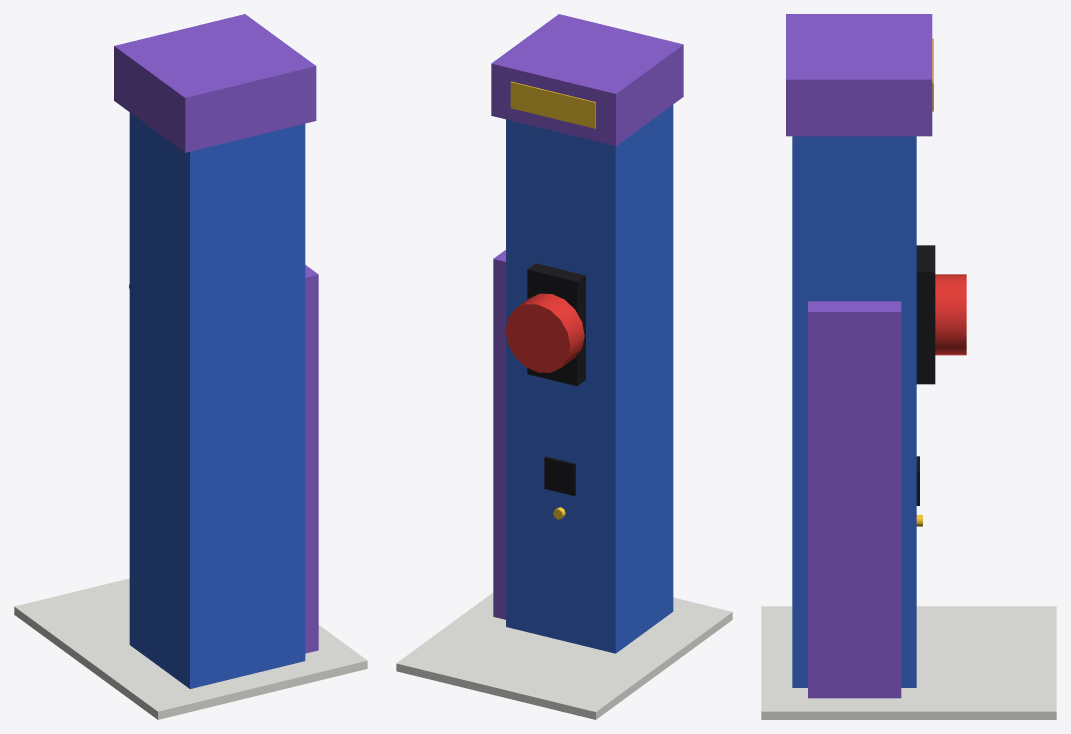
The model's file is Punching_Machine.obj.
3 renders of one model, left to right at view 1: azimuth 30°, elevation 25°; view 2: azimuth 150°, elevation 25°; view 3: azimuth 270°, elevation 25°, orthographic. The views are drawn at different scales.
Visible parts, largest first — view 1: Punching_Machine; view 2: Punching_Machine; view 3: Punching_Machine.
Part boxes in pixels (box(x1,y1,x2,y2)): Punching_Machine: box(14, 14, 367, 719); Punching_Machine: box(396, 14, 732, 719); Punching_Machine: box(761, 14, 1056, 719).
Size of the model in its own units: 0.8 by 2.2 by 0.95.
